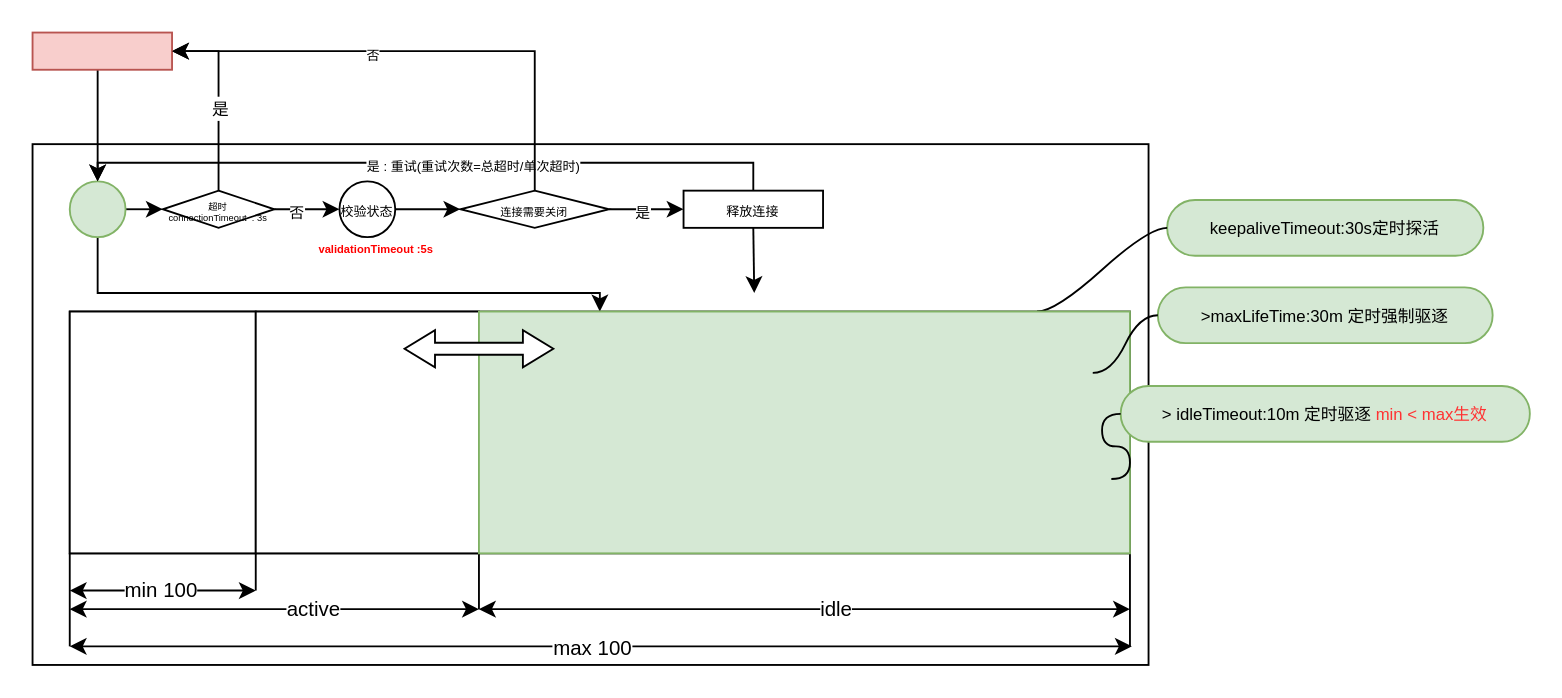
The diagram is 1562 pixels wide and 698 high, and some of its shapes have lost their labels. Here are the shapes that lost their labels. From the top down, the centre of each, then its label:
At (101,50): "获取连接".
At (97,208): "获取".
At (478,347): "扩缩容".
At (162,431): "Pool".
